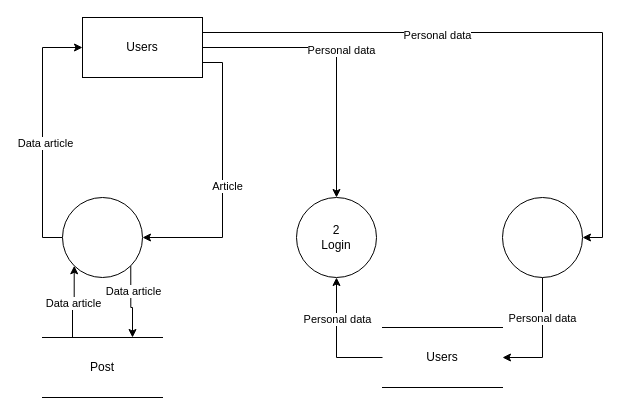
The diagram is 628 pixels wide and 415 high, and some of its shapes have lost their labels. Here are the shapes that lost their labels. From the top down, the centre of each, then its label:
the point at 102,237: 3 Post
the point at 542,237: 1 Register
